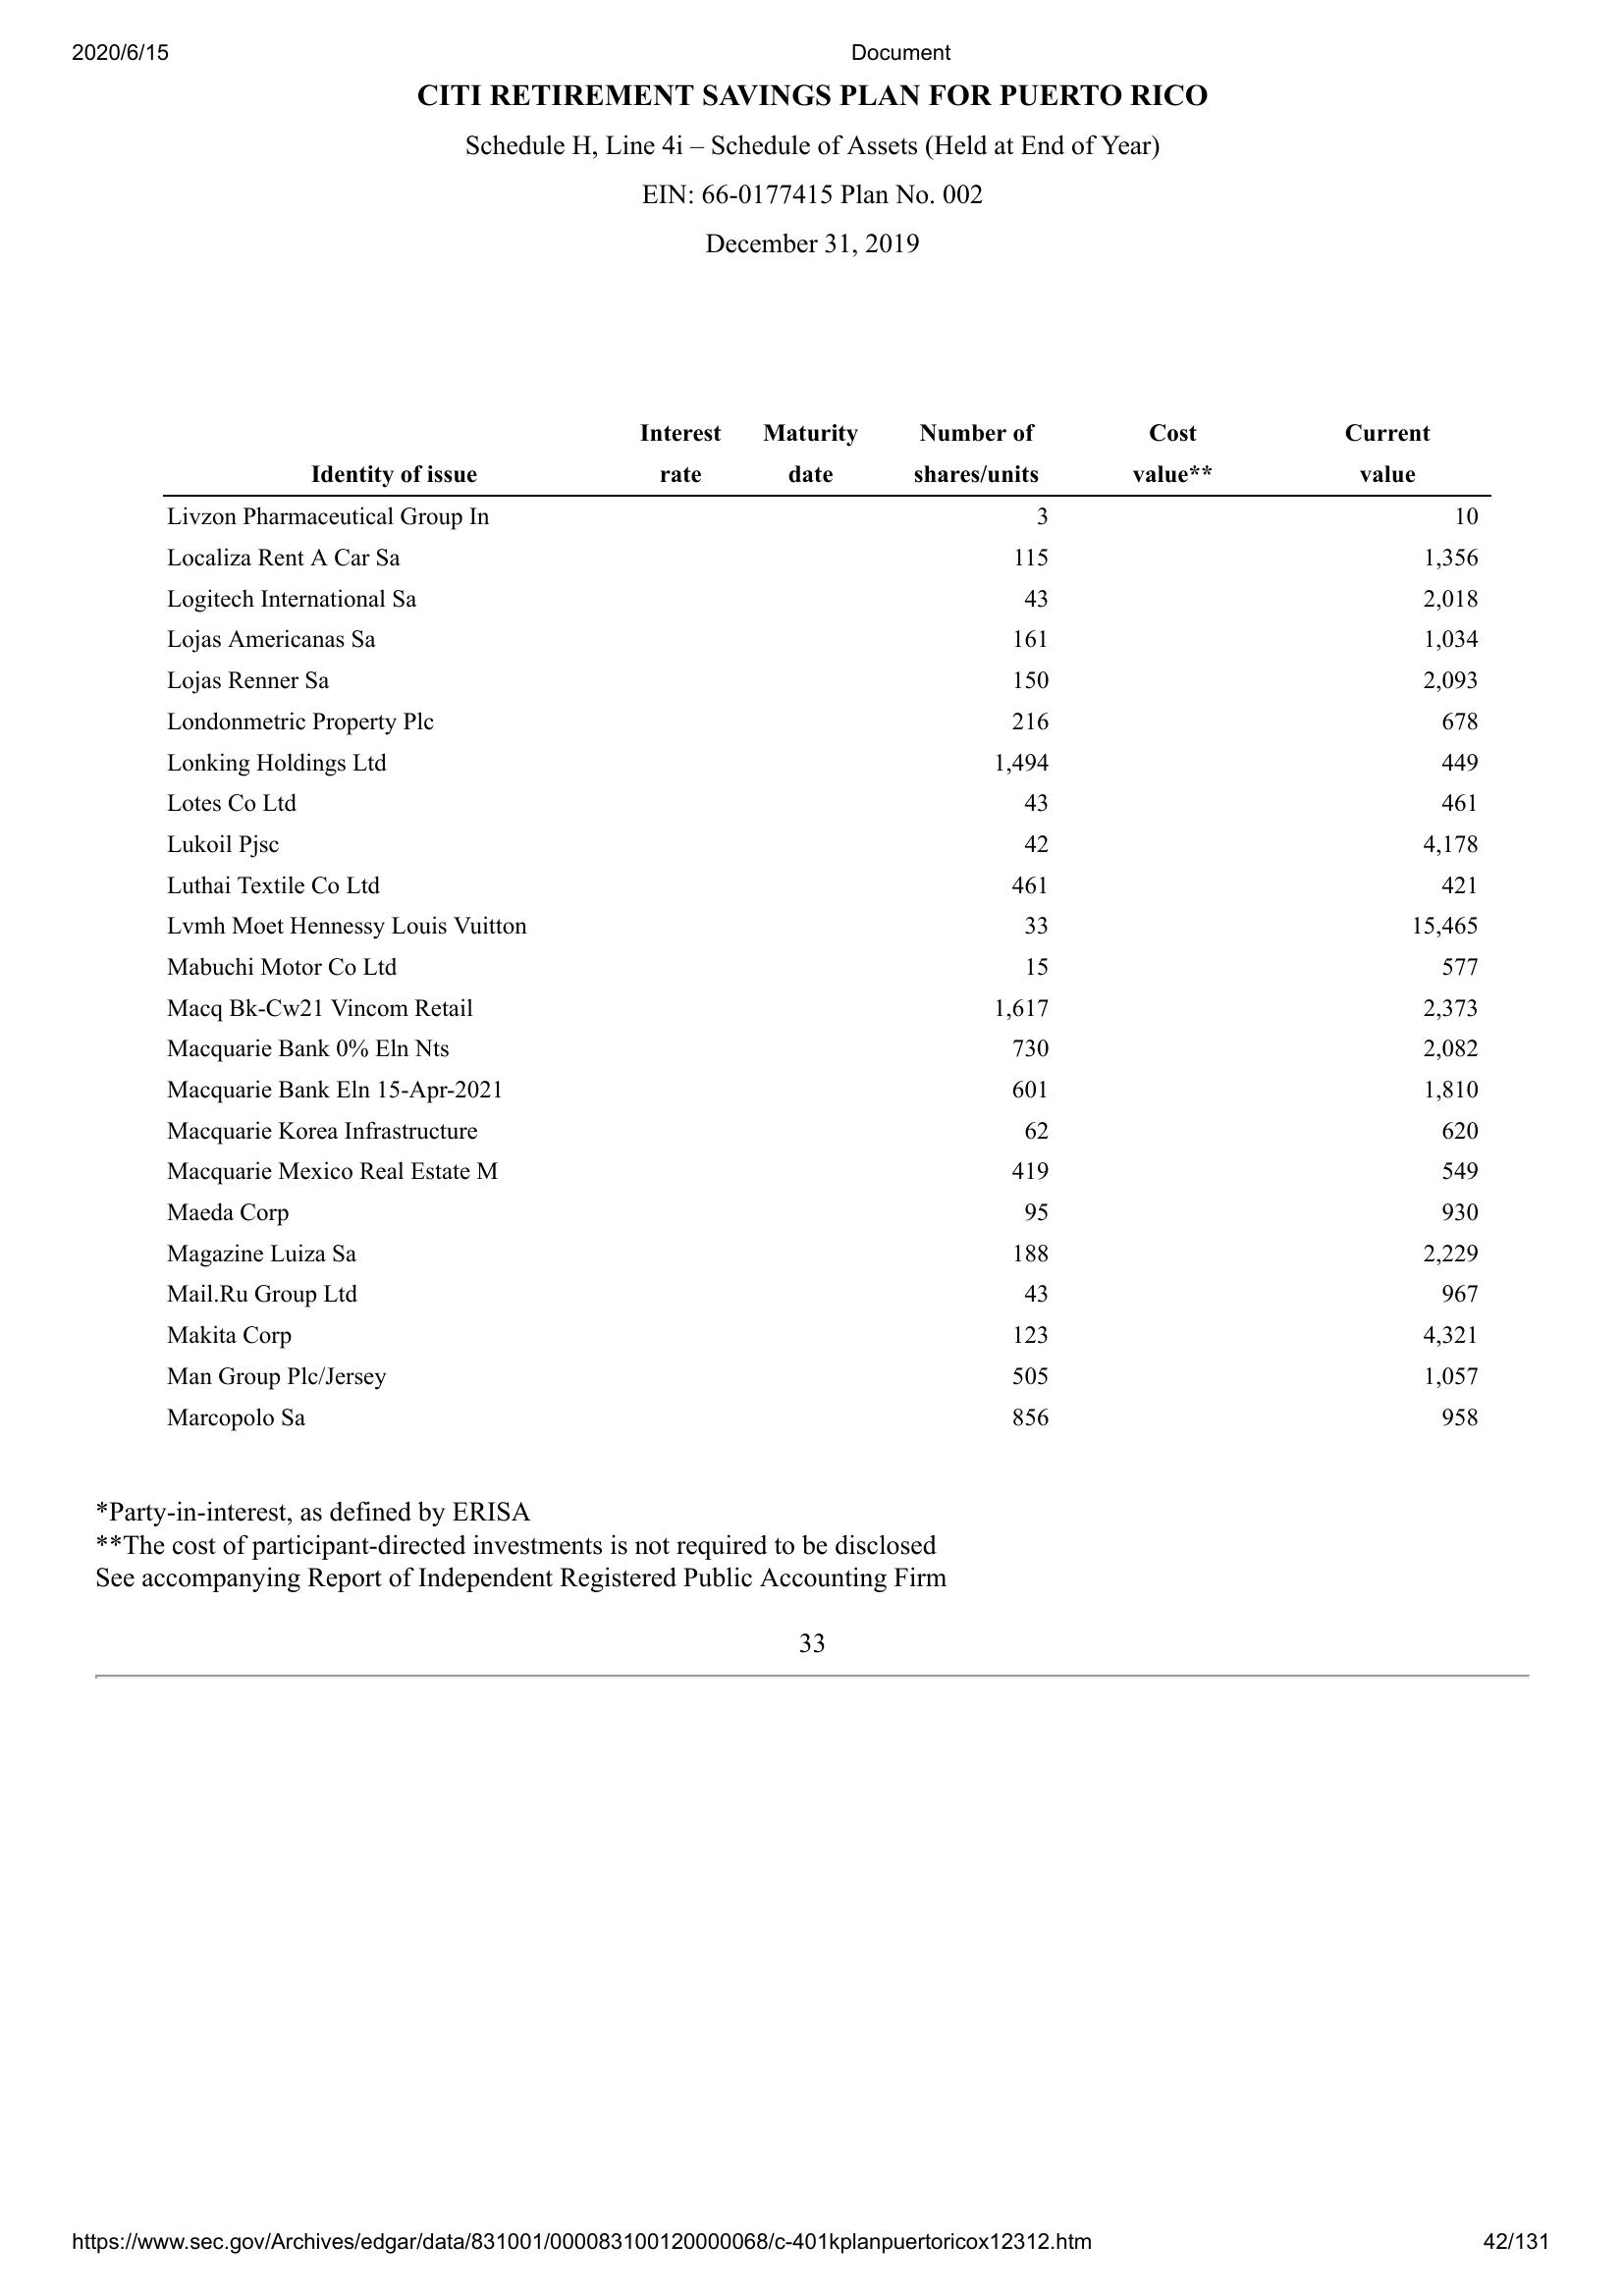table: (165, 421, 1495, 1434)
